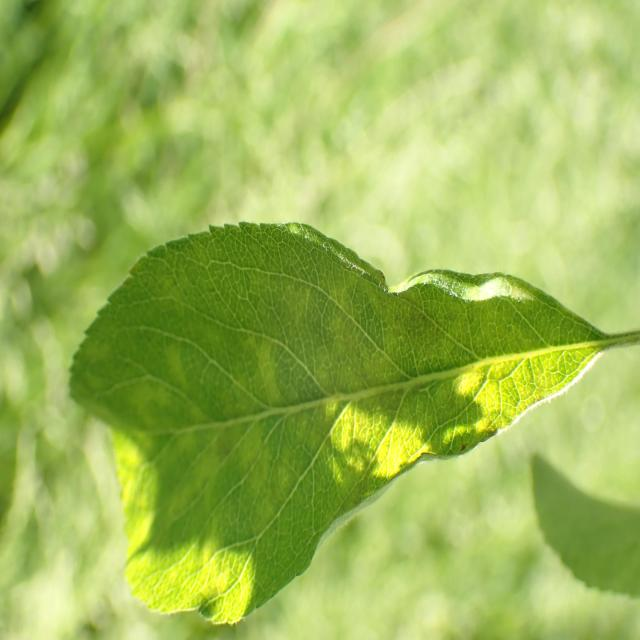scab: (101, 256, 607, 528)
